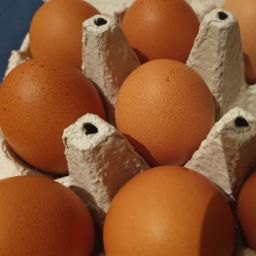Eggs: (114, 165, 232, 256), (3, 59, 101, 168), (115, 57, 216, 157), (1, 173, 96, 256), (123, 1, 199, 68), (29, 4, 99, 67)
